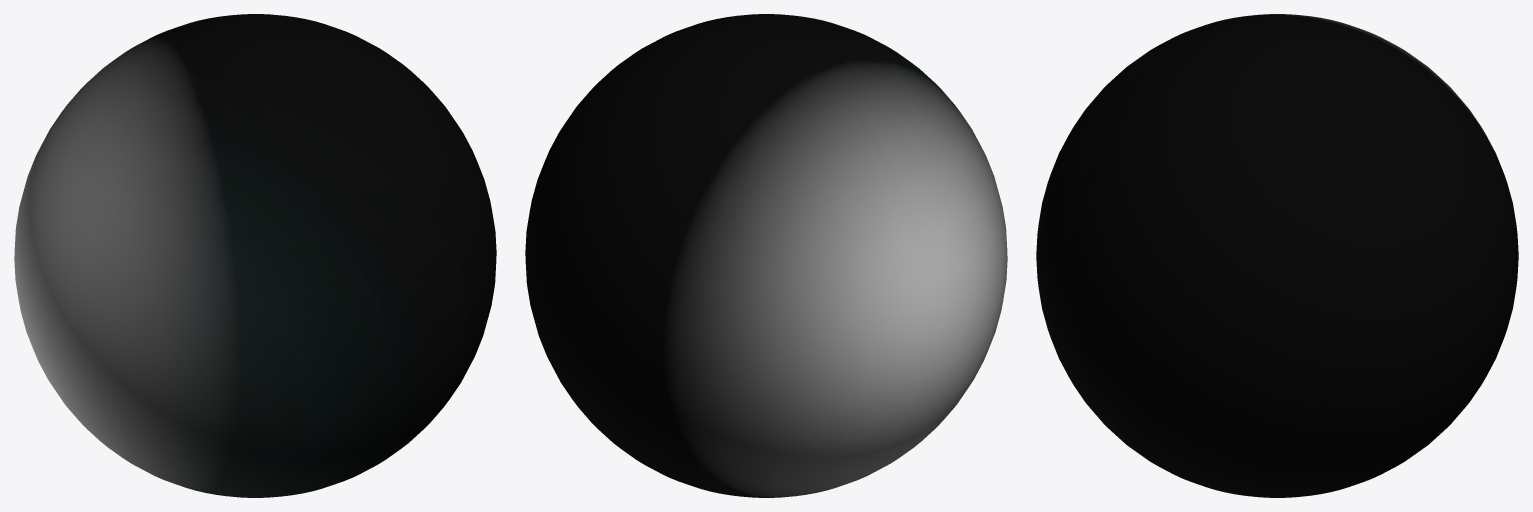
File: earth.glb
3 renders of one model, left to right at view 1: azimuth 30°, elevation 25°; view 2: azimuth 150°, elevation 25°; view 3: azimuth 270°, elevation 25°, orthographic.
Parts seen in each view (by area): view 1: planet_earth1.jpg_planet_shadow.jpg; view 2: planet_earth1.jpg_planet_shadow.jpg; view 3: planet_earth1.jpg_planet_shadow.jpg.
Part boxes in pixels (bbox=[...]): planet_earth1.jpg_planet_shadow.jpg: bbox=[14, 14, 496, 497]; planet_earth1.jpg_planet_shadow.jpg: bbox=[525, 14, 1007, 497]; planet_earth1.jpg_planet_shadow.jpg: bbox=[1036, 14, 1518, 497].
Bounding box in the file's own units: 130 × 131 × 130.
1 material, 1 textured.
